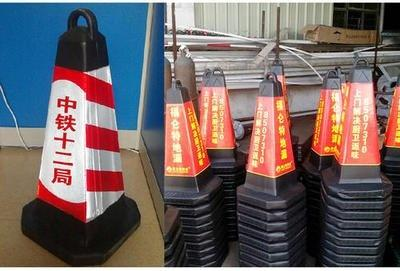cone_barrel: (17, 10, 134, 256), (329, 60, 389, 189), (240, 70, 300, 195), (153, 82, 212, 193), (304, 68, 347, 170), (199, 65, 239, 172), (380, 83, 398, 164)
